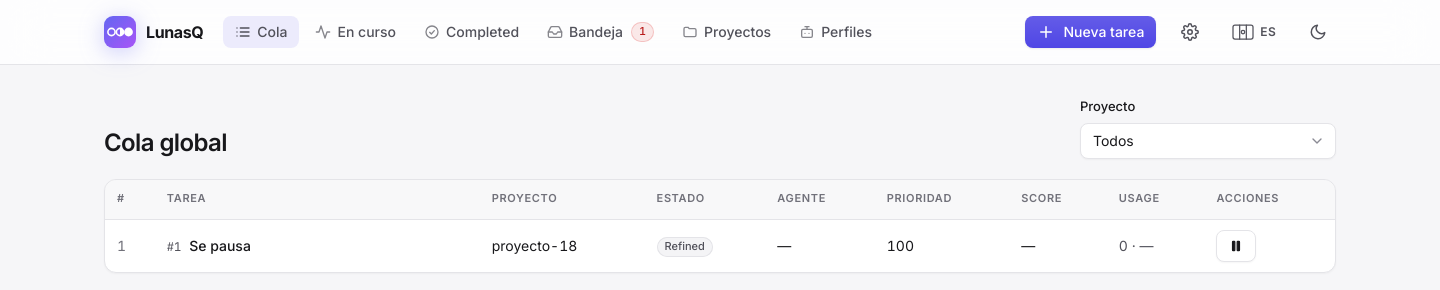
Test: global queue › Acciones column › pausing from the Cola moves the task to Paused and offers to resume it
This screenshot has width=1440, height=290.
Click the button named "Pausar tarea Se pausa". click: (1236, 246)
box: [1216, 230, 1256, 262]
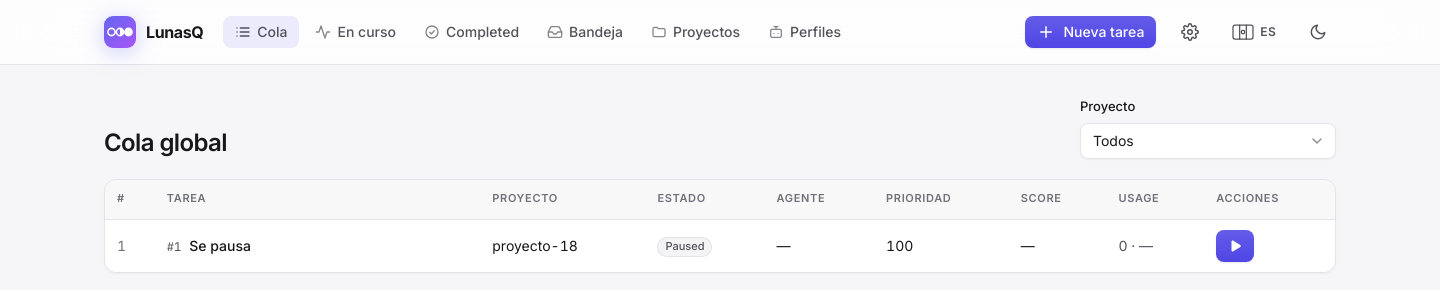
Expected: the button named "Reanudar tarea Se pausa" is shown
Expected: the text "Paused" is shown, [657, 237, 712, 257]
Click the button named "Reanudar tarea Se pausa". click: (1235, 246)
box: [1216, 230, 1254, 262]
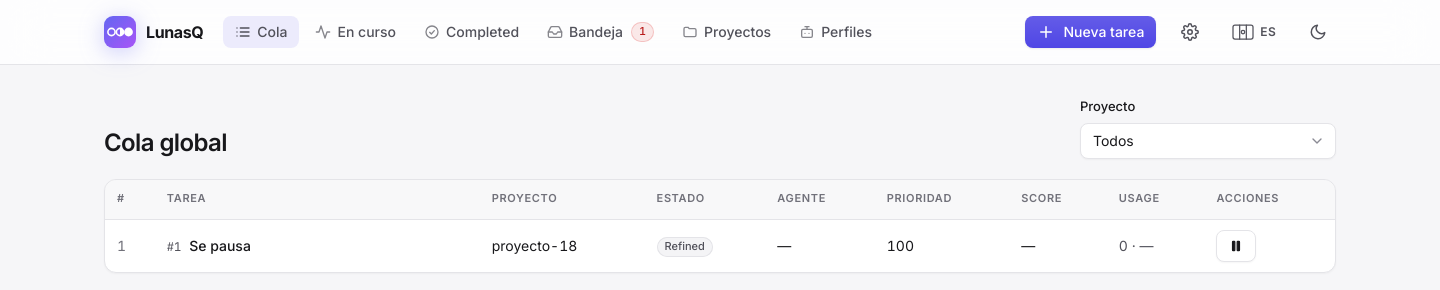
Expected: the button named "Pausar tarea Se pausa" is shown, [1216, 230, 1256, 262]
